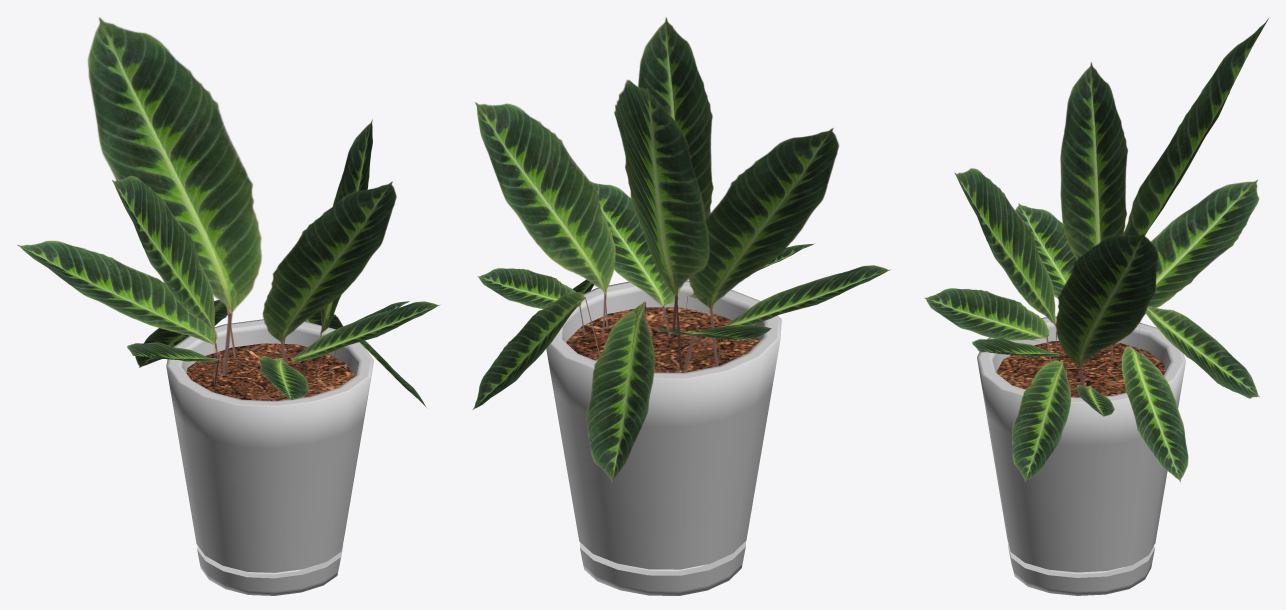
File: Calathea.glb
3 views of the same model, side by side, from view 1: azimuth 30°, elevation 25°; view 2: azimuth 150°, elevation 25°; view 3: azimuth 270°, elevation 25° (orthographic). The views are drawn at different scales.
Visible parts, largest first — view 1: Calathea_Warscewiczii, CalatheaPot; view 2: Calathea_Warscewiczii, CalatheaPot; view 3: Calathea_Warscewiczii, CalatheaPot.
Boxes of the visible parts, box(x1,y1,x2,y2) form: Calathea_Warscewiczii: box(17, 17, 440, 408); CalatheaPot: box(166, 319, 373, 595); Calathea_Warscewiczii: box(472, 17, 891, 482); CalatheaPot: box(546, 280, 781, 595); Calathea_Warscewiczii: box(924, 17, 1269, 482); CalatheaPot: box(977, 316, 1185, 595).
Size of the model in its own units: 0.3328 by 0.4967 by 0.3064.
Materials: 3 (2 with a texture image).
